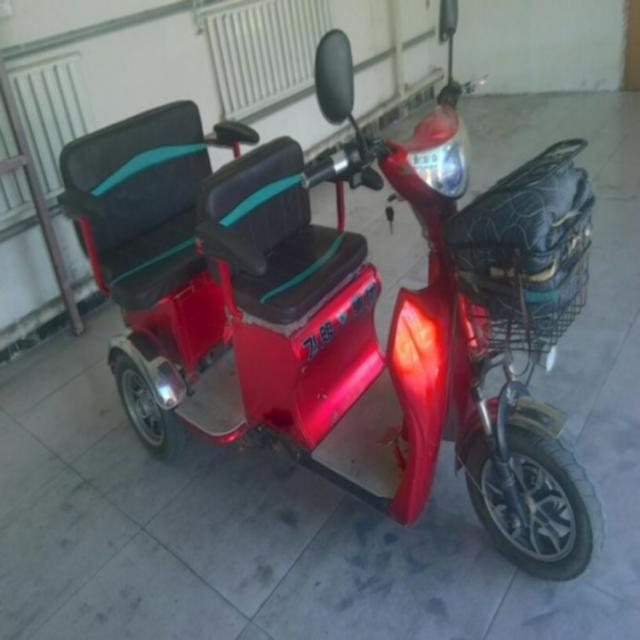tricycle: (57, 2, 606, 582)
